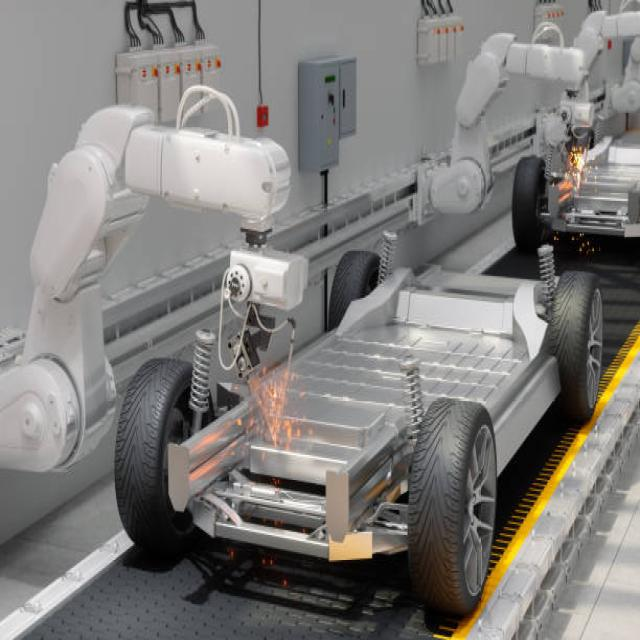Robotic-arm: (0, 83, 306, 487), (419, 22, 588, 205), (567, 0, 640, 111)
